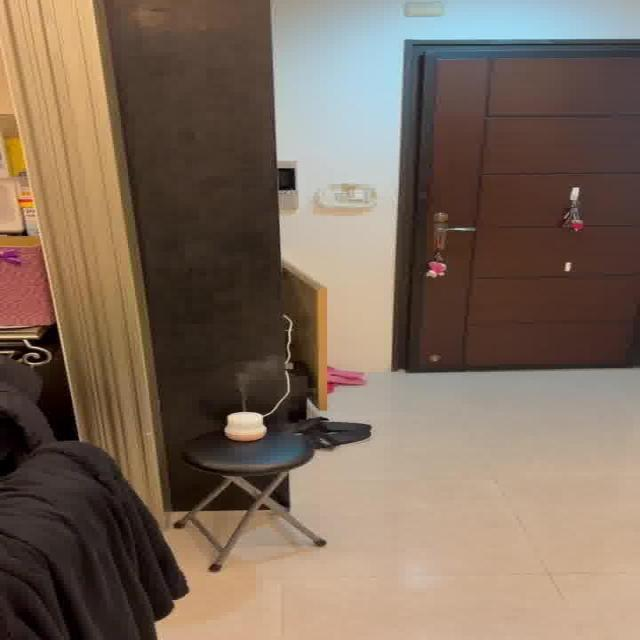fire: (230, 352, 276, 406)
